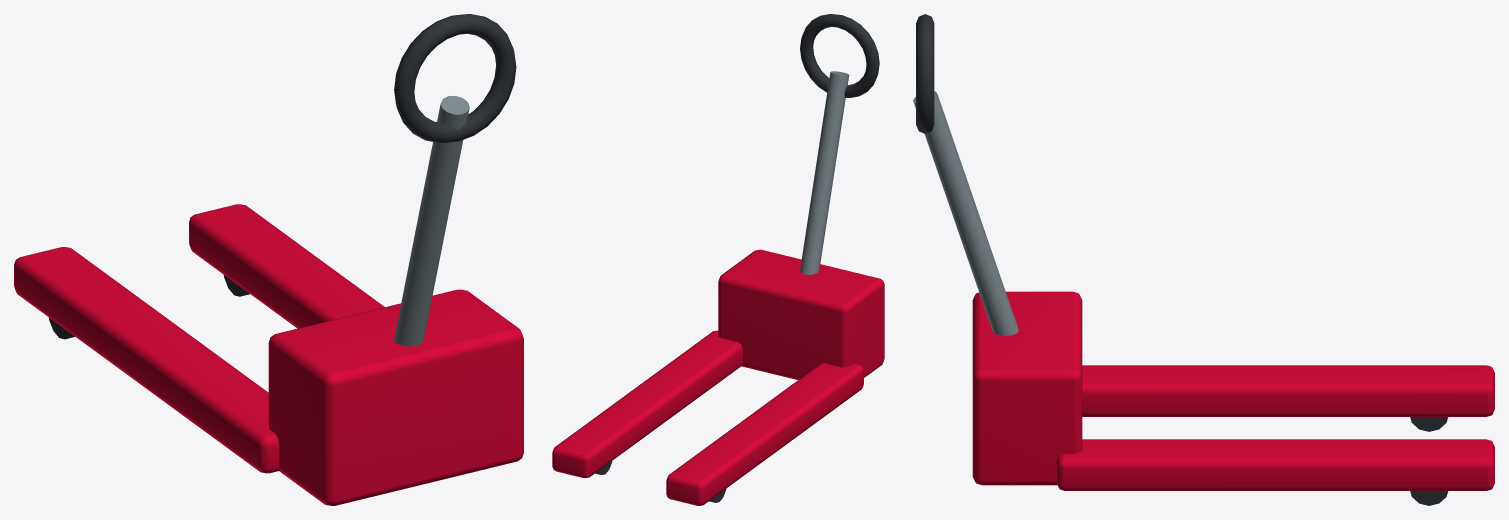
File: Pallet_Jack.fbx
3 renders of one model, left to right at view 1: azimuth 30°, elevation 25°; view 2: azimuth 150°, elevation 25°; view 3: azimuth 270°, elevation 25°, orthographic. The views are drawn at different scales.
Parts seen in each view (by area): view 1: Pallet_Jack_Red, Pallet_Jack_Rubber, Pallet_Jack_SteelDark; view 2: Pallet_Jack_Red, Pallet_Jack_SteelDark, Pallet_Jack_Rubber; view 3: Pallet_Jack_Red, Pallet_Jack_SteelDark, Pallet_Jack_Rubber.
Boxes of the visible parts, left/top/right/bottom form: Pallet_Jack_Red: left=14, top=204, right=523, bottom=505; Pallet_Jack_Rubber: left=49, top=14, right=516, bottom=339; Pallet_Jack_SteelDark: left=394, top=96, right=469, bottom=346; Pallet_Jack_Red: left=552, top=249, right=884, bottom=505; Pallet_Jack_SteelDark: left=800, top=71, right=849, bottom=274; Pallet_Jack_Rubber: left=595, top=14, right=879, bottom=502; Pallet_Jack_Red: left=972, top=291, right=1494, bottom=490; Pallet_Jack_SteelDark: left=913, top=91, right=1018, bottom=335; Pallet_Jack_Rubber: left=916, top=14, right=1448, bottom=505.
Size of the model in its own units: 64 by 133 by 159.
